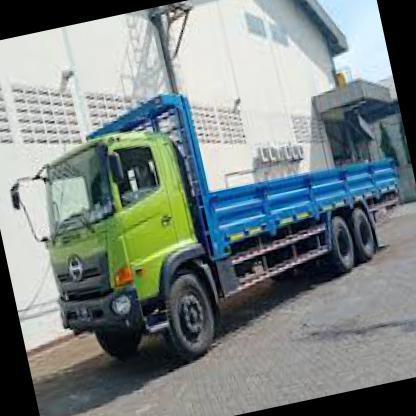truck: (22, 118, 229, 389)
